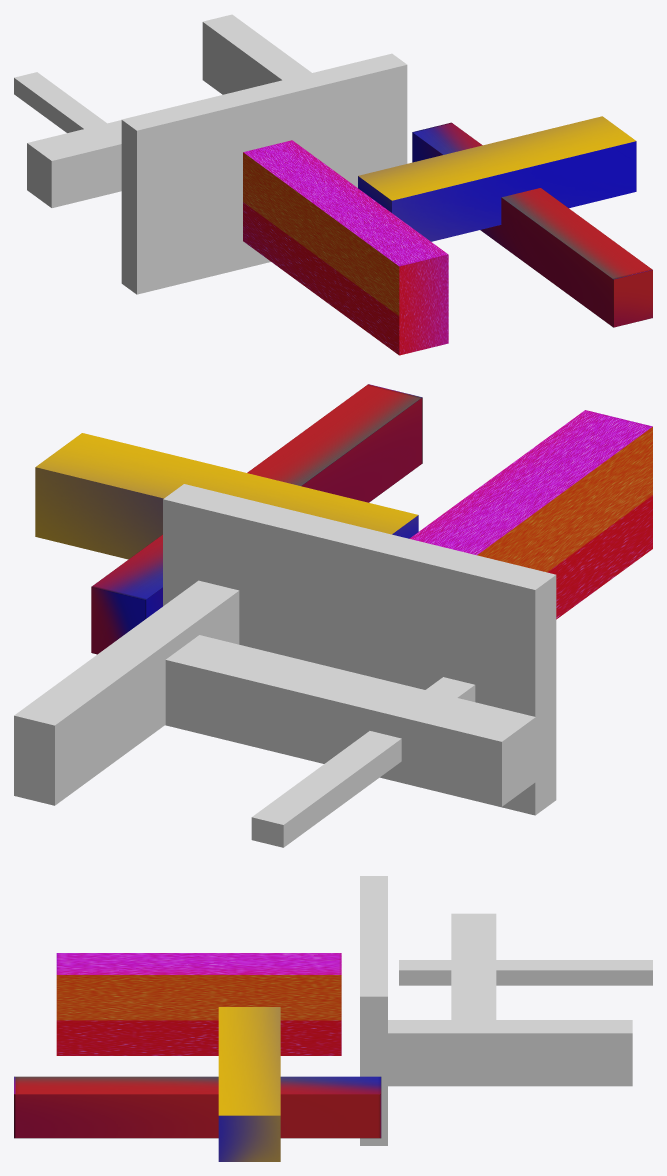
Rendered from Marker_30_Cube3.fbx.
3 renders of one model, top to bottom at view 1: azimuth 30°, elevation 25°; view 2: azimuth 150°, elevation 25°; view 3: azimuth 270°, elevation 25°, orthographic. The views are drawn at different scales.
Visible parts, largest first — view 1: Cube.006, Cube.007, Cube.004, Cube.005, Cube.001, Cube.002, Cube.003; view 2: Cube.006, Cube.001, Cube.007, Cube.002, Cube.004, Cube.005, Cube.003; view 3: Cube.007, Cube.005, Cube.002, Cube.004, Cube.006, Cube.003, Cube.001.
Part boxes in pixels (x1=…): Cube.006: x1=121, y1=53, x2=407, y2=294; Cube.007: x1=243, y1=140, x2=448, y2=355; Cube.004: x1=358, y1=116, x2=636, y2=241; Cube.005: x1=412, y1=122, x2=652, y2=327; Cube.001: x1=27, y1=120, x2=121, y2=207; Cube.002: x1=202, y1=14, x2=311, y2=94; Cube.003: x1=14, y1=72, x2=106, y2=132; Cube.006: x1=163, y1=484, x2=556, y2=815; Cube.001: x1=165, y1=635, x2=535, y2=806; Cube.007: x1=409, y1=410, x2=652, y2=619; Cube.002: x1=14, y1=580, x2=239, y2=805; Cube.004: x1=35, y1=433, x2=418, y2=559; Cube.005: x1=91, y1=384, x2=422, y2=654; Cube.003: x1=251, y1=677, x2=475, y2=847; Cube.007: x1=56, y1=953, x2=341, y2=1055; Cube.005: x1=14, y1=1076, x2=381, y2=1138; Cube.002: x1=388, y1=1020, x2=632, y2=1086; Cube.004: x1=218, y1=1007, x2=280, y2=1161; Cube.006: x1=360, y1=876, x2=387, y2=1145; Cube.003: x1=399, y1=960, x2=652, y2=985; Cube.001: x1=451, y1=913, x2=496, y2=1019.
Size of the model in its own units: 562 by 193 by 746.
